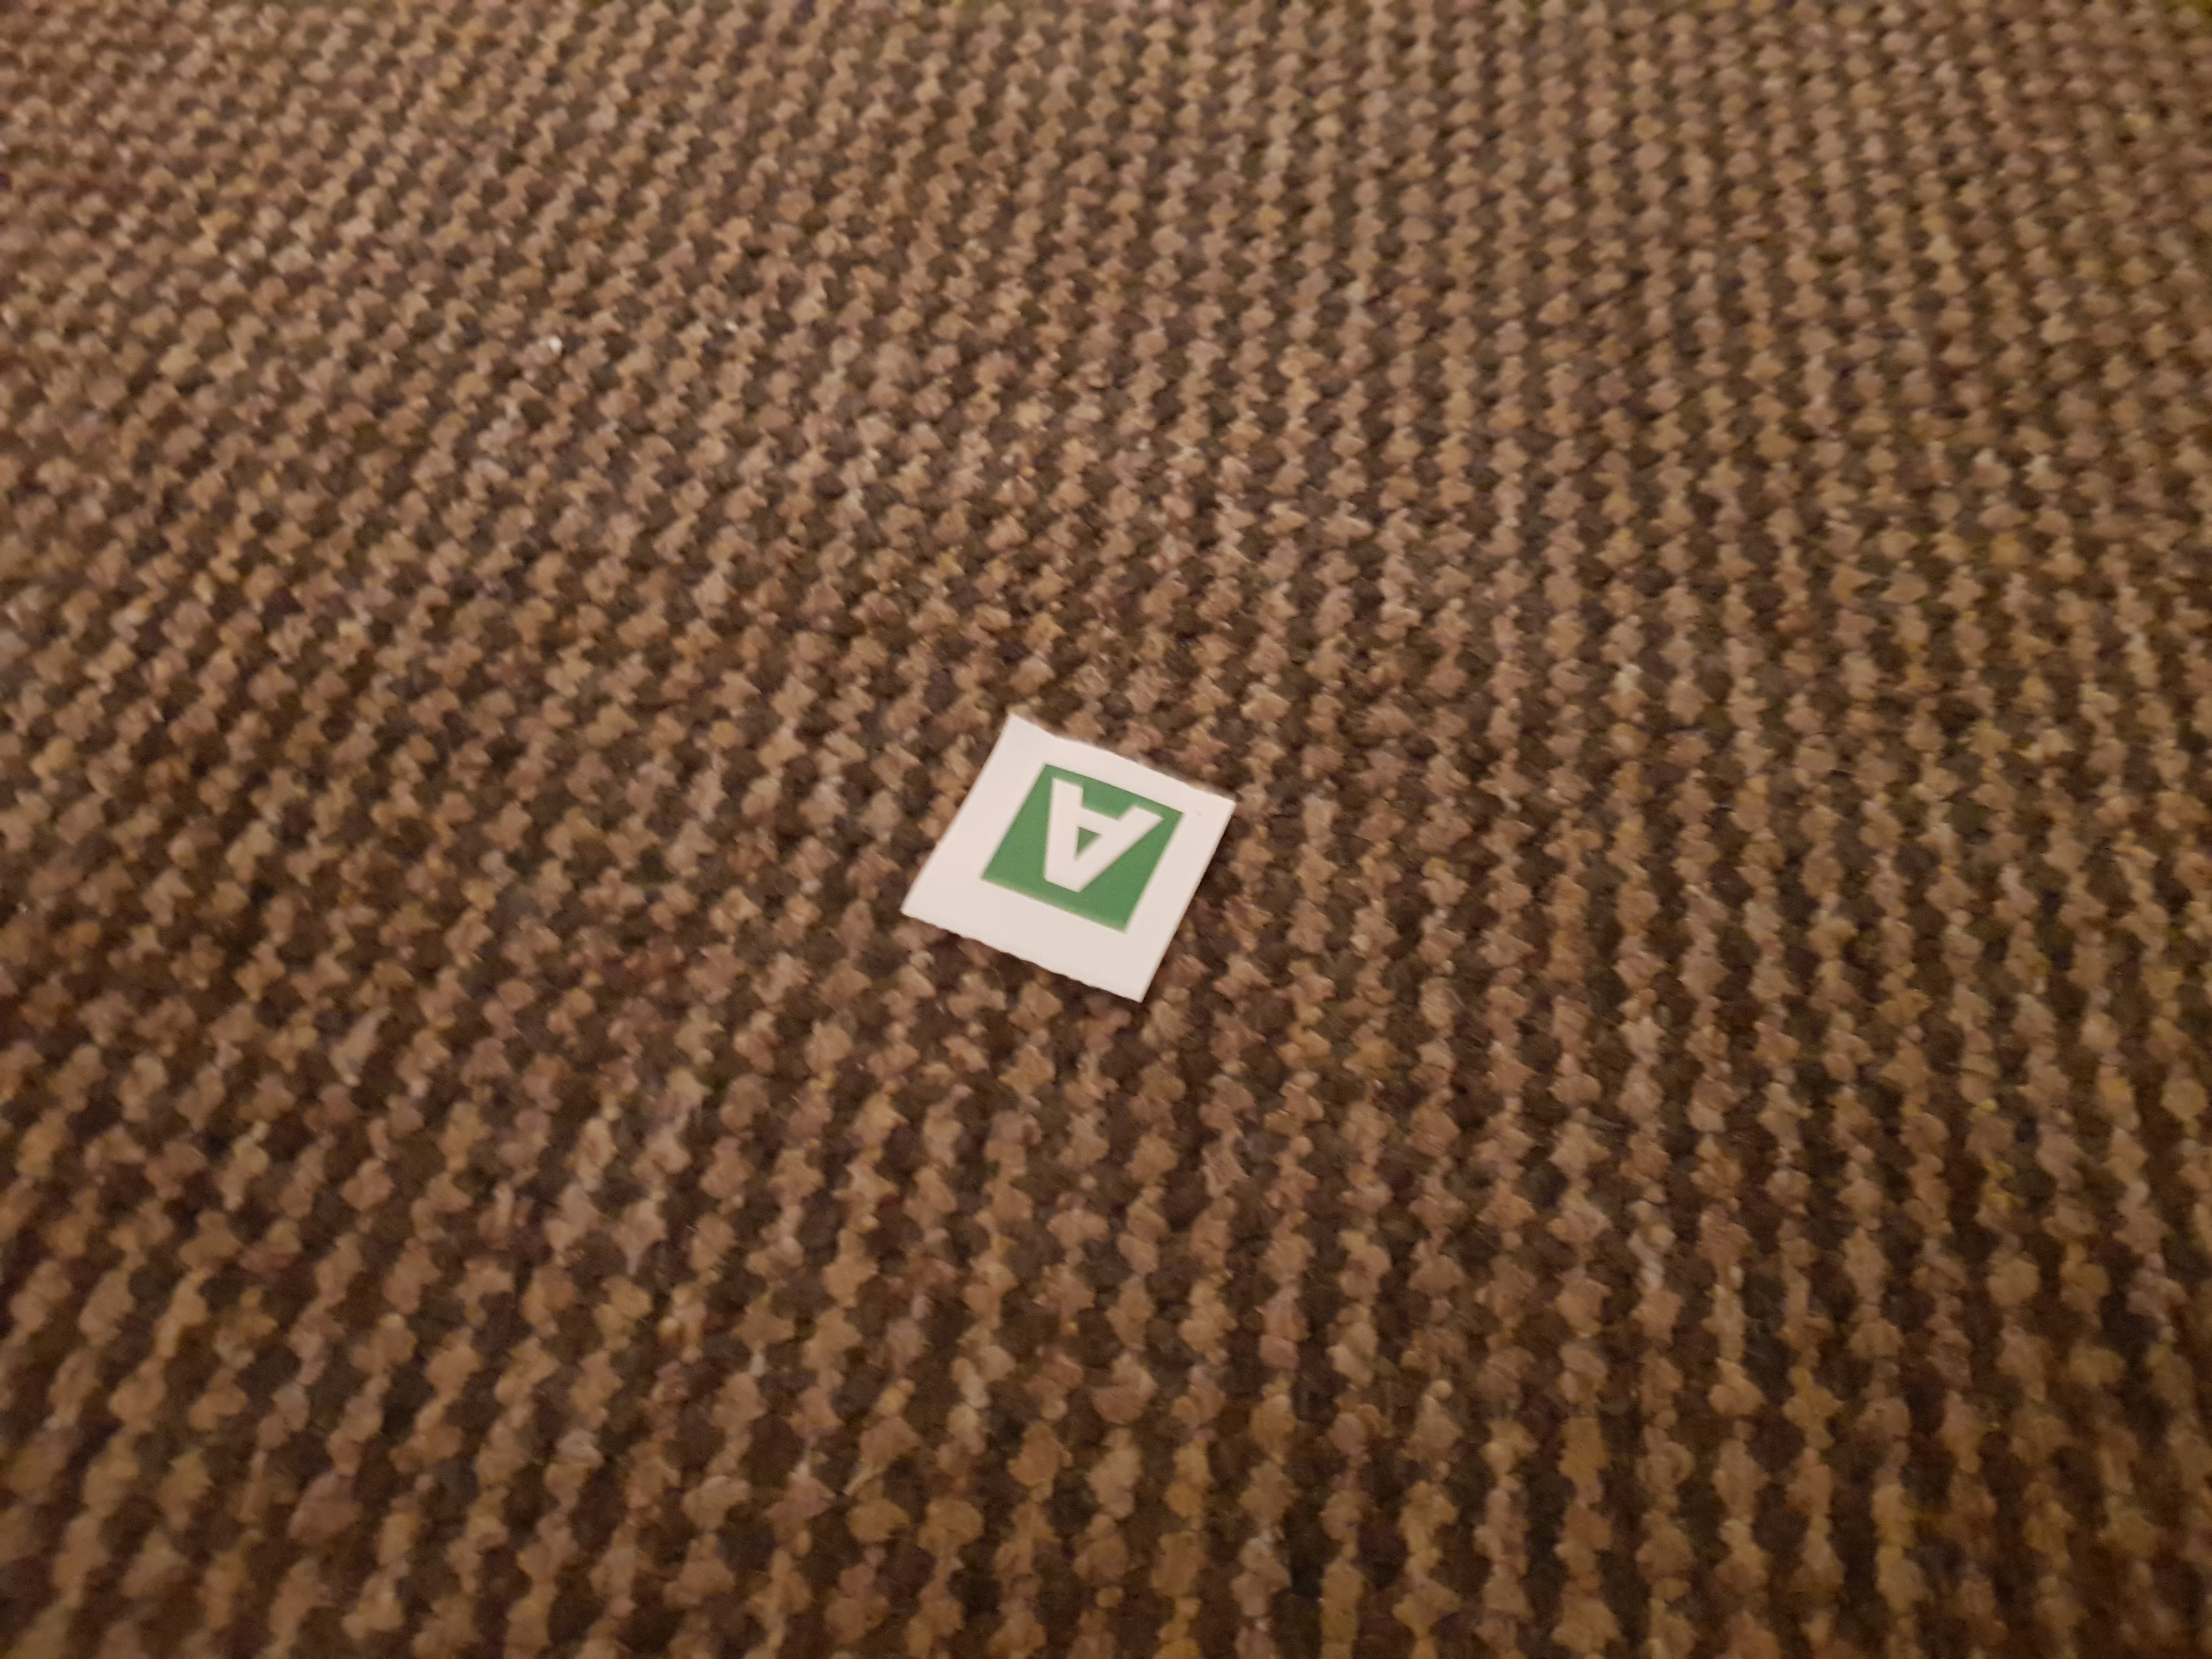marker: (902, 708, 1231, 1006)
